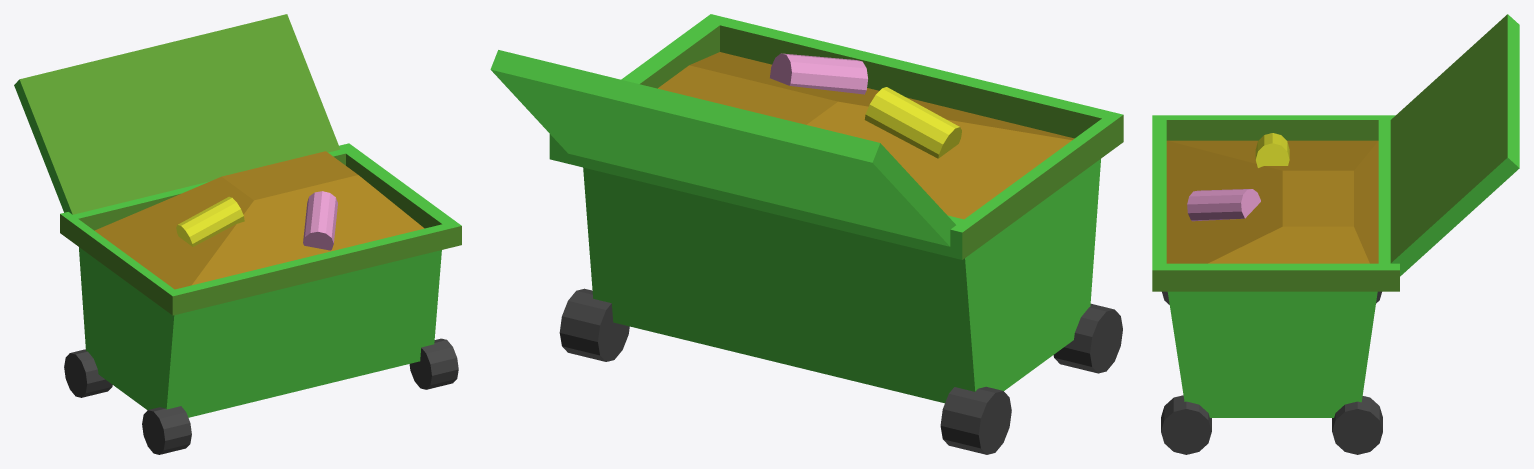
File: black_b_ci.glb
3 views of the same model, side by side, from view 1: azimuth 30°, elevation 25°; view 2: azimuth 150°, elevation 25°; view 3: azimuth 270°, elevation 25° (orthographic). The views are drawn at different scales.
Visible parts, largest first — view 1: Cylinder.001; view 2: Cylinder.001; view 3: Cylinder.001.
Part boxes in pixels (box(x1,y1,x2,y2)): Cylinder.001: box(14, 14, 461, 454); Cylinder.001: box(490, 14, 1123, 454); Cylinder.001: box(1152, 14, 1519, 454).
Bounding box in the file's own units: 4.39 × 3.77 × 4.33.
